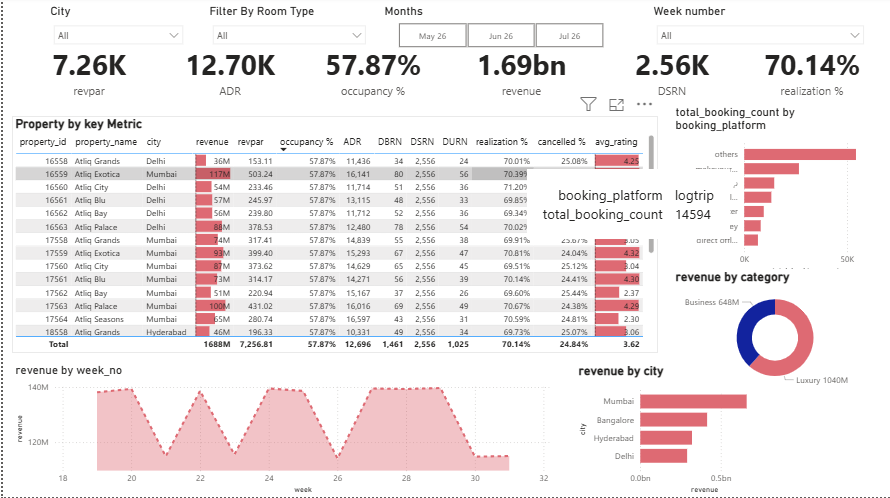

The dashboard page shown, as its layout file describes it:
{"tool":"powerbi","page":{"name":"Page 1","canvas":[1280,720],"ordinal":0},"visuals":[{"type":"card","fields":{"Values":["measure.revpar"]},"box":[28.8,59,190.1,96.5],"z":0},{"type":"card","fields":{"Values":["measure.ADR"]},"box":[231.8,59,190.1,96.5],"z":1000},{"type":"card","fields":{"Values":["measure.occupancy %"]},"box":[437.8,59,190.1,96.5],"z":2000},{"type":"card","fields":{"Values":["measure.revenue"]},"box":[652.3,59,188.6,96.5],"z":3000},{"type":"card","fields":{"Values":["measure.DSRN"]},"box":[868.3,59,190.1,96.5],"z":4000},{"type":"card","fields":{"Values":["measure.realization %"]},"box":[1069.9,59,190.1,96.5],"z":5000},{"type":"lineChart","fields":{"Category":["dim_date.week_no"],"Y":["measure.revenue"]},"box":[13,527,780.5,193],"z":6000},{"type":"tableEx","title":"Property by key Metric","fields":{"Values":["dim_hotels.property_id","dim_hotels.property_name","dim_hotels.city","measure.revenue","measure.revpar","measure.occupancy %","measure.ADR","measure.DBRN","measure.DSRN","measure.DURN","measure.realization %","measure.cancelled %"]},"box":[13,171.4,930.2,341.3],"z":7000},{"type":"slicer","title":"Filter By Room Type","fields":{"Values":["dim_rooms.room_class"]},"box":[292.3,10.1,240.5,69.1],"z":8000},{"type":"slicer","title":"Months","fields":{"Values":["dim_date.mmm yy"]},"box":[544.3,10.1,344.2,69.1],"z":9000},{"type":"slicer","title":"City","fields":{"Values":["dim_hotels.city"]},"box":[63.4,10.1,205.9,69.1],"z":10000},{"type":"slicer","title":"Week number","fields":{"Values":["dim_date.week no"]},"box":[931.7,10.1,318.2,69.1],"z":11000},{"type":"barChart","fields":{"Category":["dim_hotels.city"],"Y":["measure.revenue"]},"box":[823.7,527,299.5,193],"z":11001},{"type":"barChart","fields":{"Category":["fact_bookings.booking_platform"],"Y":["measure.total_booking_count"]},"box":[963.4,155.5,296.6,249.1],"z":11002},{"type":"donutChart","title":"revenue by category","fields":{"Category":["dim_hotels.category"],"Y":["measure.revenue"]},"box":[963.4,391.7,296.6,175.7],"z":11003}]}

Visuals, with their boxes in screenshot pixels (x1, y1, x2, y2), scaled from the page's 1280x720 canvas onto the 890x498 screenshot:
card - measure.revpar: rect(20, 41, 152, 108)
card - measure.ADR: rect(161, 41, 293, 108)
card - measure.occupancy %: rect(304, 41, 437, 108)
card - measure.revenue: rect(454, 41, 585, 108)
card - measure.DSRN: rect(604, 41, 736, 108)
card - measure.realization %: rect(744, 41, 876, 108)
lineChart - dim_date.week_no x measure.revenue: rect(9, 365, 552, 497)
"Property by key Metric" tableEx: rect(9, 119, 656, 355)
"Filter By Room Type" slicer: rect(203, 7, 370, 55)
"Months" slicer: rect(378, 7, 618, 55)
"City" slicer: rect(44, 7, 187, 55)
"Week number" slicer: rect(648, 7, 869, 55)
barChart - dim_hotels.city x measure.revenue: rect(573, 365, 781, 497)
barChart - fact_bookings.booking_platform x measure.total_booking_count: rect(670, 108, 876, 280)
"revenue by category" donutChart: rect(670, 271, 876, 392)
